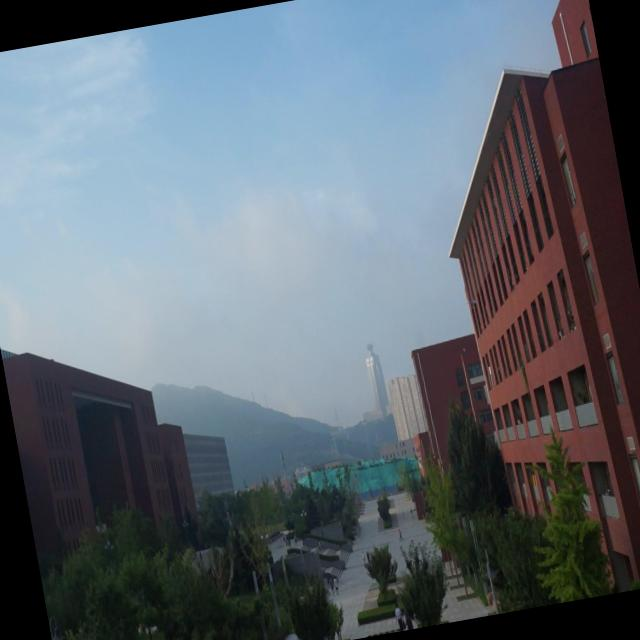drone: (464, 293, 478, 309)
